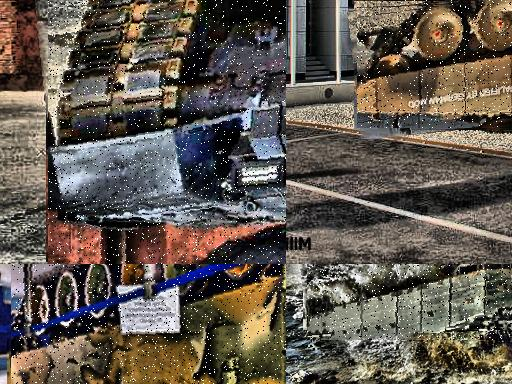tanks: (49, 1, 287, 265), (13, 265, 287, 384), (358, 2, 512, 129), (308, 265, 512, 341)
